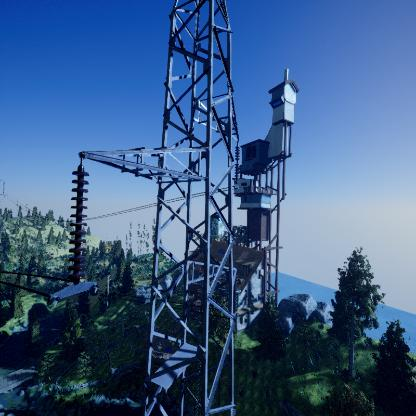insulator: (67, 168, 93, 286), (233, 145, 241, 185)
